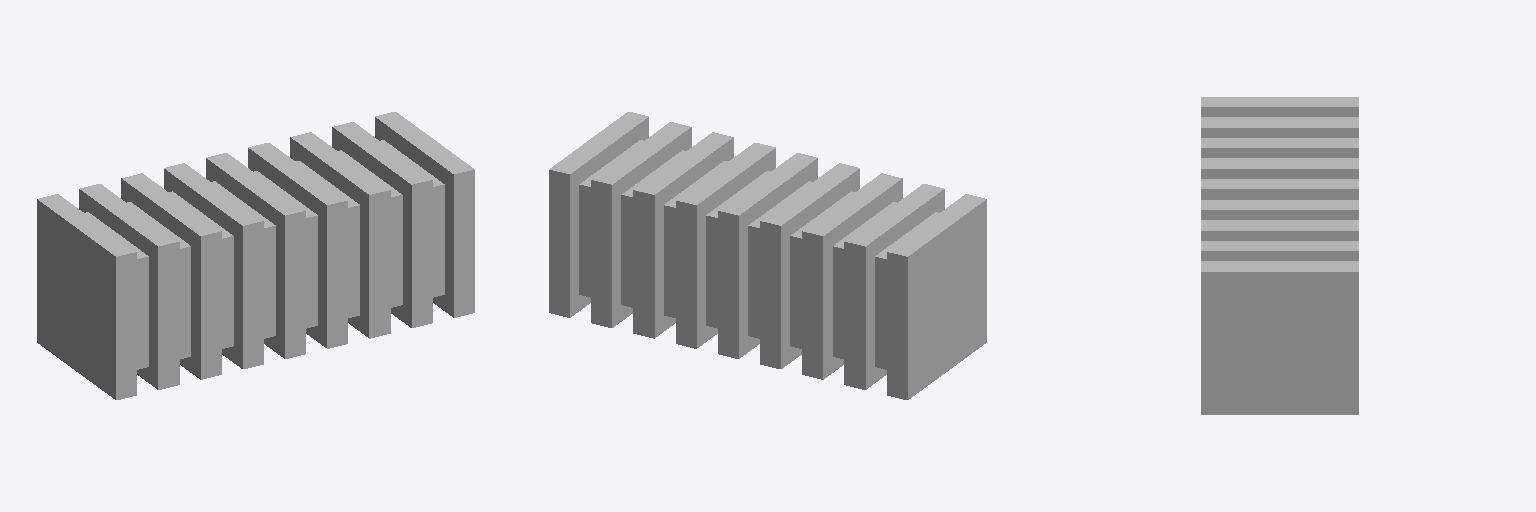
File: crusher_drum_right.obj
3 views of the same model, side by side, from view 1: azimuth 30°, elevation 25°; view 2: azimuth 150°, elevation 25°; view 3: azimuth 270°, elevation 25° (orthographic).
Parts seen in each view (by area): view 1: drum0; view 2: drum0; view 3: drum0.
Boxes of the visible parts, box(x1,y1,x2,y2) form: drum0: box(37, 112, 474, 399); drum0: box(549, 112, 986, 399); drum0: box(1201, 97, 1358, 414).
Size of the model in its own units: 2.12 by 0.8125 by 0.8125.